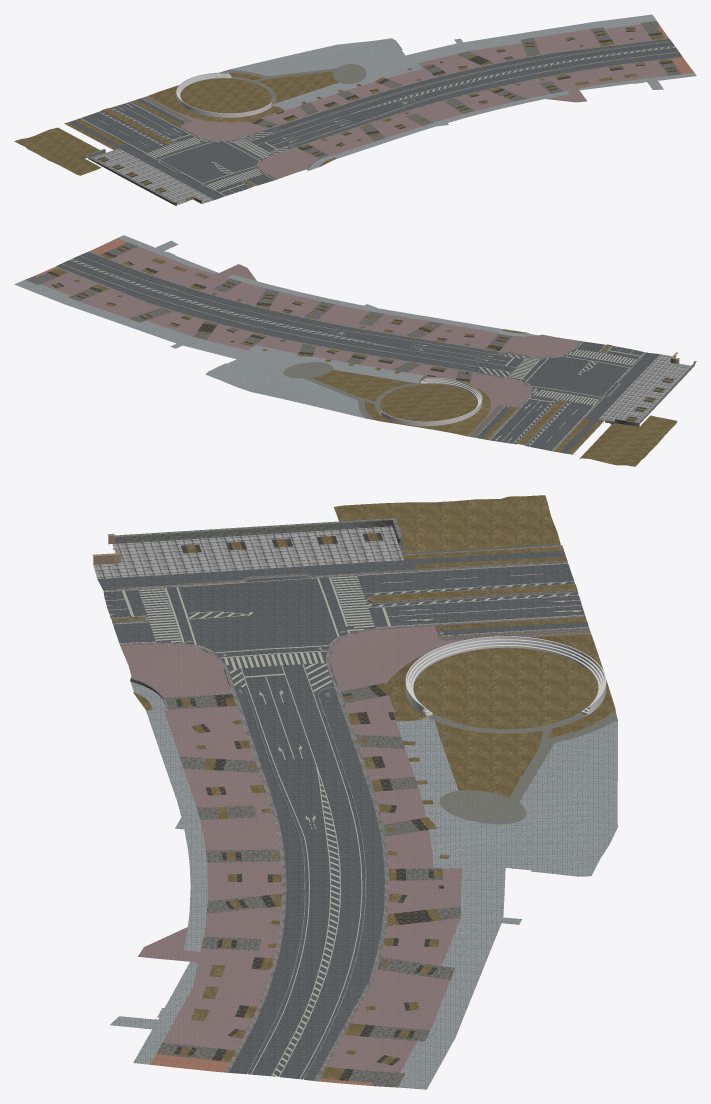
File: zimCreateArchive_Area03_Ground.fbx
The picture shows the model from 3 angles, top to bottom: view 1: azimuth 30°, elevation 25°; view 2: azimuth 150°, elevation 25°; view 3: azimuth 270°, elevation 25°; orthographic projection. The views are drawn at different scales.
Visible parts, largest first — view 1: Ground-Road, Ground-Paving-PinkGrey, Ground-Grass1, Ground-Paving-GreyTile, Ground-RoadMark, Ground-Kerb, Ground-Path-Grey, Ground-Path-GreyTile2, Ground-Path-Dark, Ground-DarkGrey, Ground-Path-Grey2, Ground-Wall-White (+1 smaller); view 2: Ground-Road, Ground-Paving-PinkGrey, Ground-Grass1, Ground-Paving-GreyTile, Ground-Kerb, Ground-RoadMark, Ground-Path-Grey, Ground-Path-GreyTile2, Ground-Path-Dark, Ground-DarkGrey, Ground-Path-Grey2, Ground-Wall-White; view 3: Ground-Road, Ground-Paving-PinkGrey, Ground-Grass1, Ground-Paving-GreyTile, Ground-RoadMark, Ground-Kerb, Ground-Path-GreyTile2, Ground-Path-Grey, Ground-Path-Dark, Ground-Path-Grey2, Ground-DarkGrey, Ground-Wall-White (+2 smaller).
Part boxes in pixels (x1,y1,x2,y2): Ground-Road: (81,39,682,195); Ground-Paving-PinkGrey: (146,24,668,179); Ground-Grass1: (14,28,675,192); Ground-Paving-GreyTile: (230,14,696,170); Ground-RoadMark: (81,41,678,195); Ground-Kerb: (64,38,682,196); Ground-Path-Grey: (256,21,681,158); Ground-Path-GreyTile2: (91,148,214,205); Ground-Path-Dark: (69,98,223,199); Ground-DarkGrey: (97,27,676,192); Ground-Path-Grey2: (222,64,366,105); Ground-Wall-White: (176,72,272,117); Ground-Road: (56,252,644,451); Ground-Paving-PinkGrey: (41,246,580,436); Ground-Grass1: (50,246,677,466); Ground-Paving-GreyTile: (14,235,537,418); Ground-Kerb: (55,251,647,458); Ground-RoadMark: (62,255,644,450); Ground-Path-Grey: (25,242,512,379); Ground-Path-GreyTile2: (599,354,690,421); Ground-Path-Dark: (476,352,659,453); Ground-DarkGrey: (47,246,673,421); Ground-Path-Grey2: (283,362,421,419); Ground-Wall-White: (379,377,482,426); Ground-Road: (103,563,584,1080); Ground-Paving-PinkGrey: (120,626,591,1072); Ground-Grass1: (111,495,615,1080); Ground-Paving-GreyTile: (110,682,618,1089); Ground-RoadMark: (104,563,588,1079); Ground-Kerb: (103,543,585,1081); Ground-Path-GreyTile2: (93,526,403,578); Ground-Path-Grey: (156,686,460,1087); Ground-Path-Dark: (97,550,588,636); Ground-Path-Grey2: (427,712,617,824); Ground-DarkGrey: (174,532,443,1080); Ground-Wall-White: (405,636,606,716).
Size of the model in its own units: 214 by 80.15 by 3.21.
15 materials, 15 textured.
